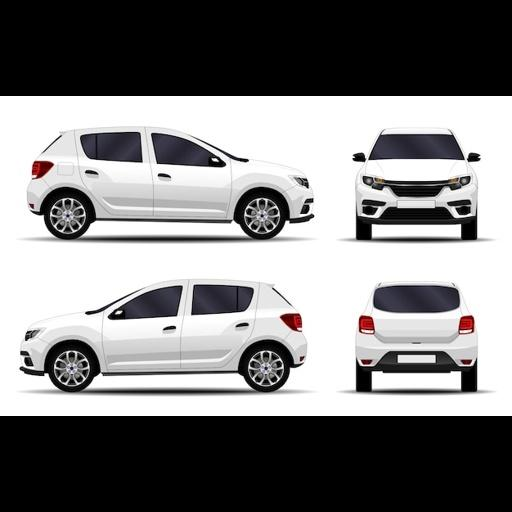hatchback: (28, 128, 313, 239), (21, 281, 306, 390), (352, 128, 479, 239), (355, 282, 476, 390)
